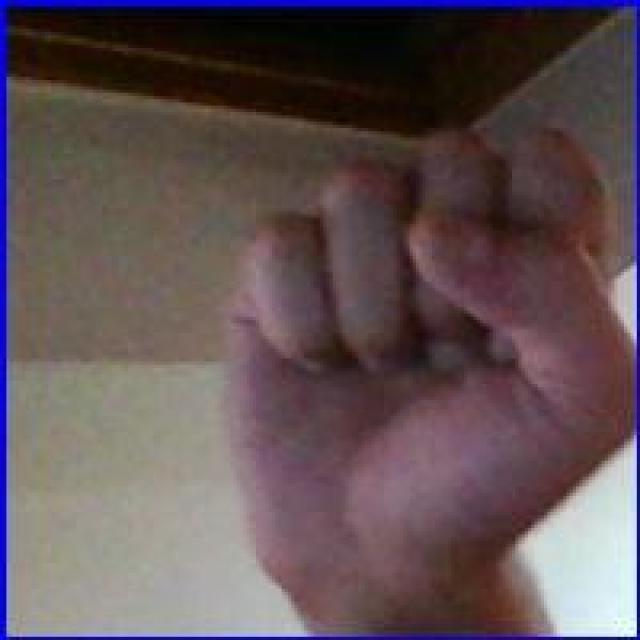S: (214, 124, 637, 606)
